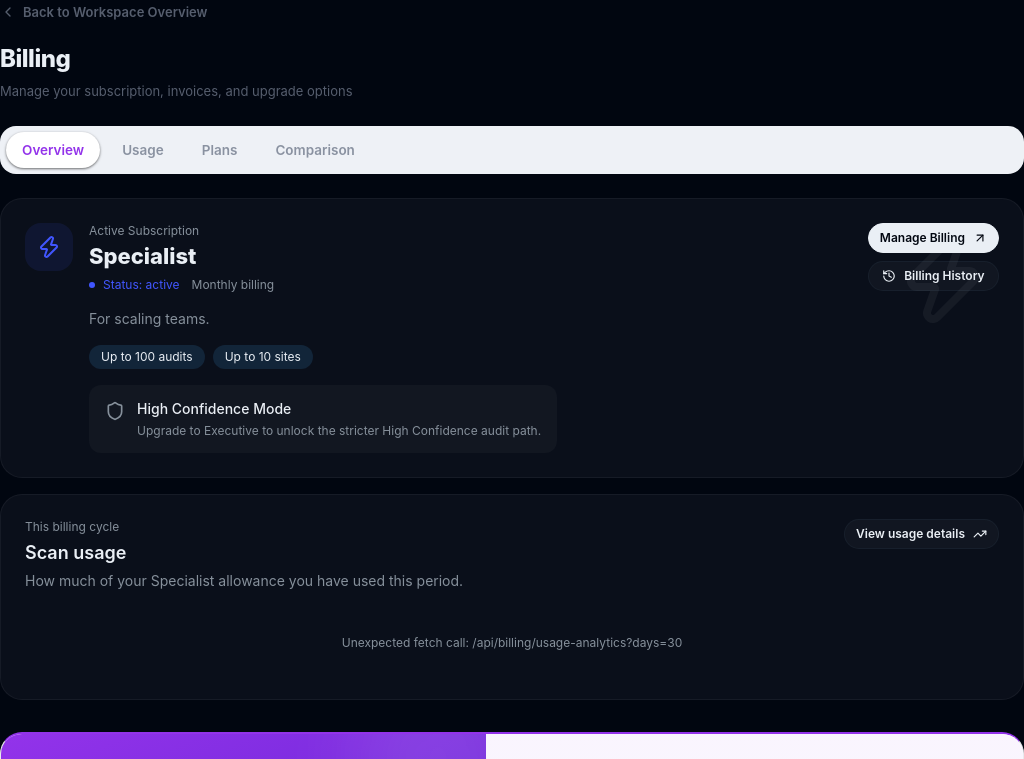
Test case: BillingPage › the Executive card (SIGV2-1211) › shows the scan allowance then Jake's three consultancy lines
Expected: the text "Active Subscription" is shown, [89,222,199,238]
Click the tab "Plans".
click(220, 150)  # box [186,132,253,168]
(page scrolled)
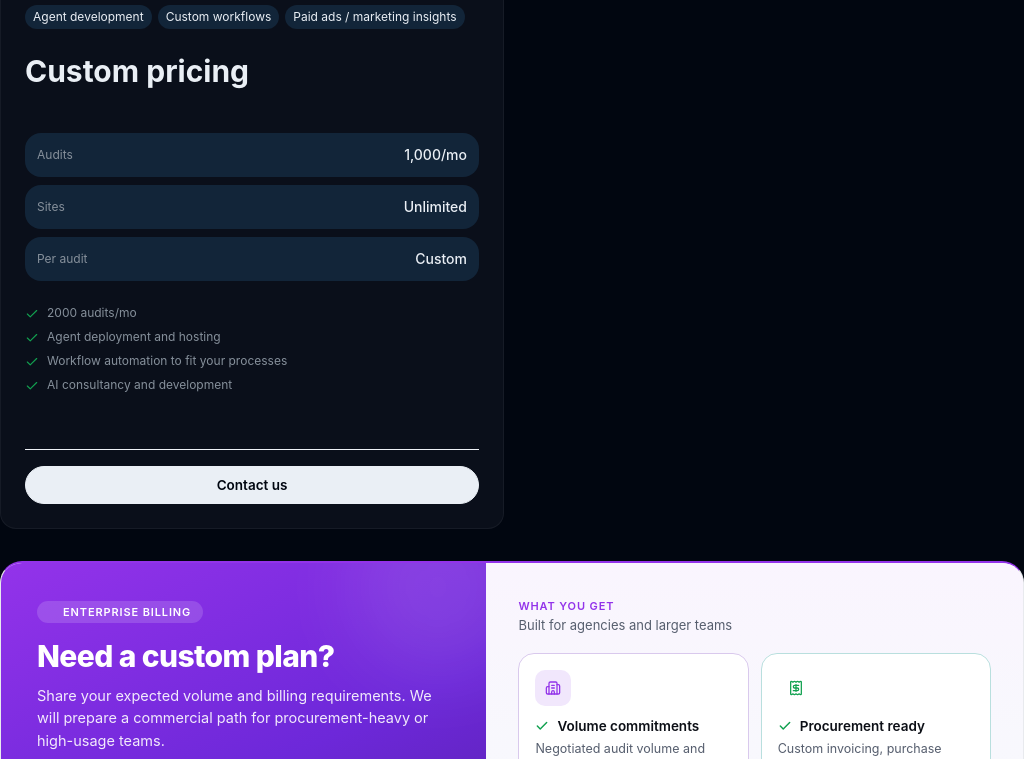
Result: the text "2000 audits/mo" is shown at [47,304,137,320]
Result: the text "Agent deployment and hosting" is shown at [47,328,221,344]
Result: the text "Workflow automation to fit your processes" is shown at [47,352,287,368]
